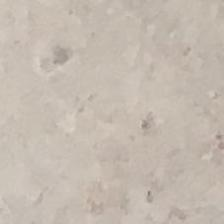Non_Crack: (17, 7, 214, 222)
